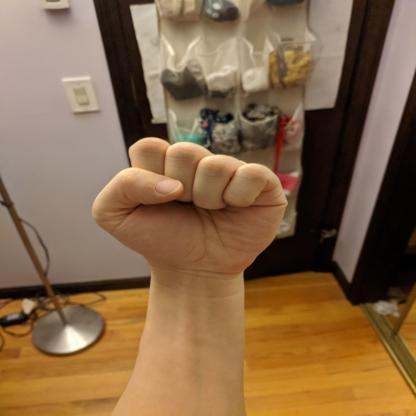S: (87, 133, 291, 280)
